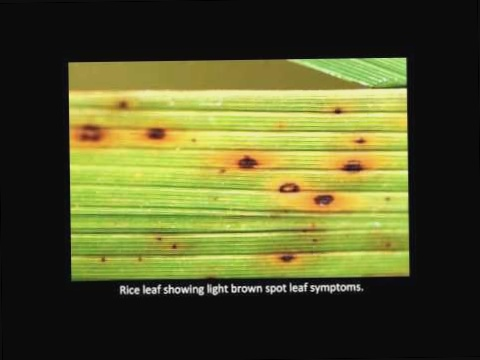Bacterial_Leaf_Blight: (223, 139, 272, 179), (69, 113, 119, 151), (133, 114, 181, 150), (268, 246, 314, 267), (303, 186, 343, 209), (343, 152, 373, 179), (275, 176, 308, 197), (326, 99, 351, 122), (111, 98, 138, 112), (349, 131, 370, 148)
